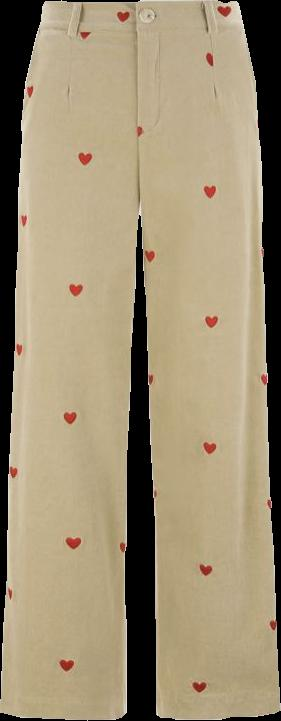Hemline: (154, 703, 280, 720), (0, 704, 129, 720)
Pantleg: (135, 0, 280, 719), (0, 2, 141, 719)
Waistline: (36, 22, 245, 38), (41, 0, 239, 10)
